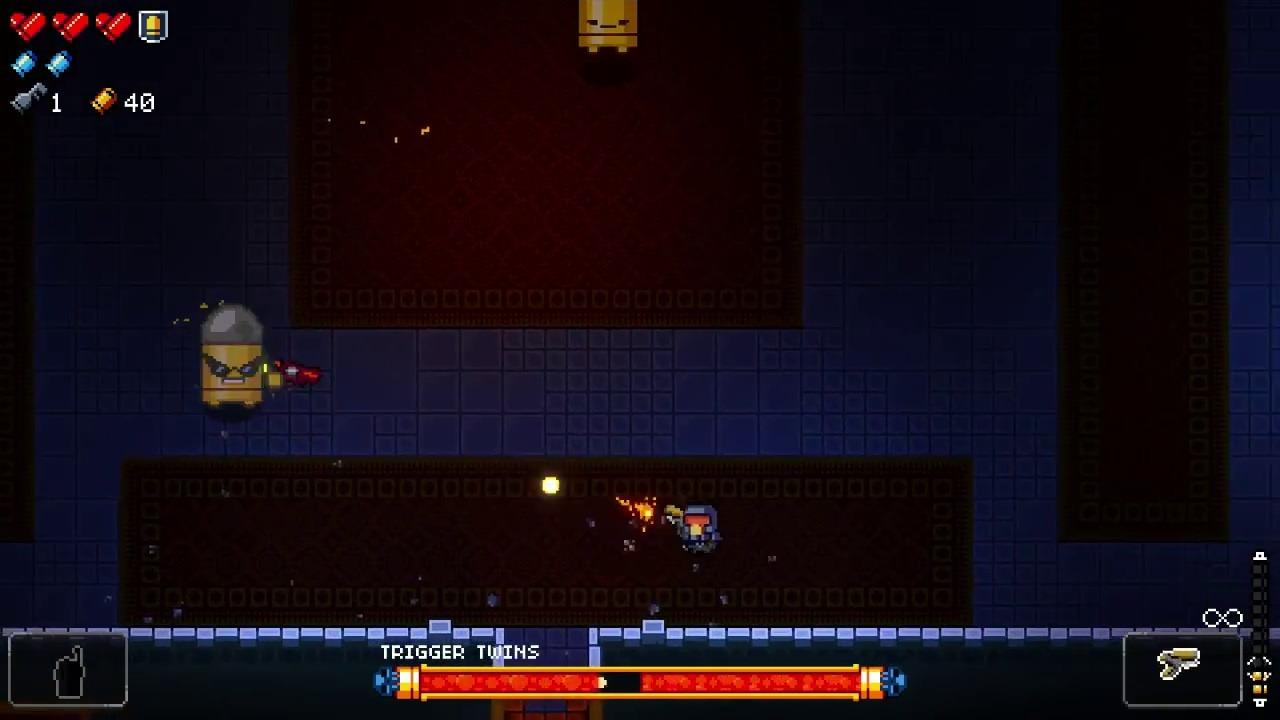boss_shades: (200, 306, 266, 409)
boss_smiley: (577, 0, 638, 57)
player: (679, 507, 724, 558)
